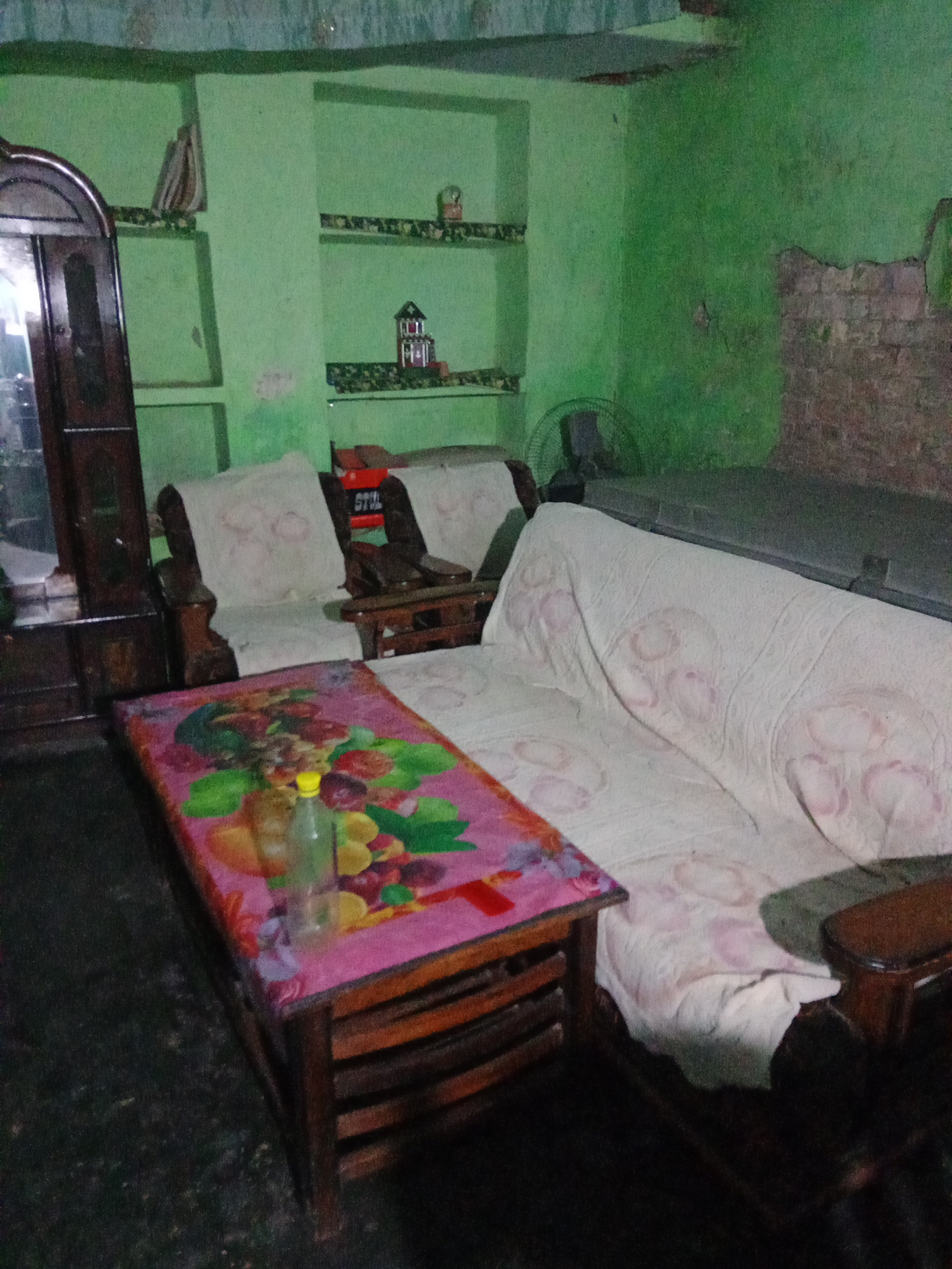sofa: (342, 494, 952, 1269), (151, 456, 387, 694)
table: (111, 657, 626, 1241)
